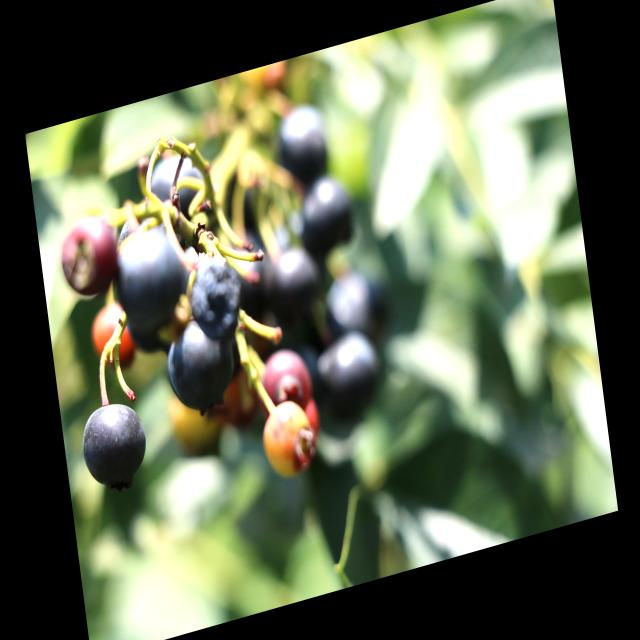blueberry: (156, 299, 241, 421), (111, 220, 194, 342), (75, 389, 157, 501), (312, 323, 382, 427), (271, 98, 340, 198), (294, 167, 361, 257), (321, 264, 388, 353), (262, 237, 323, 331), (183, 251, 243, 341)
blueberry-halfripe: (54, 210, 120, 301), (260, 396, 319, 482), (261, 342, 316, 419), (87, 294, 139, 371)
